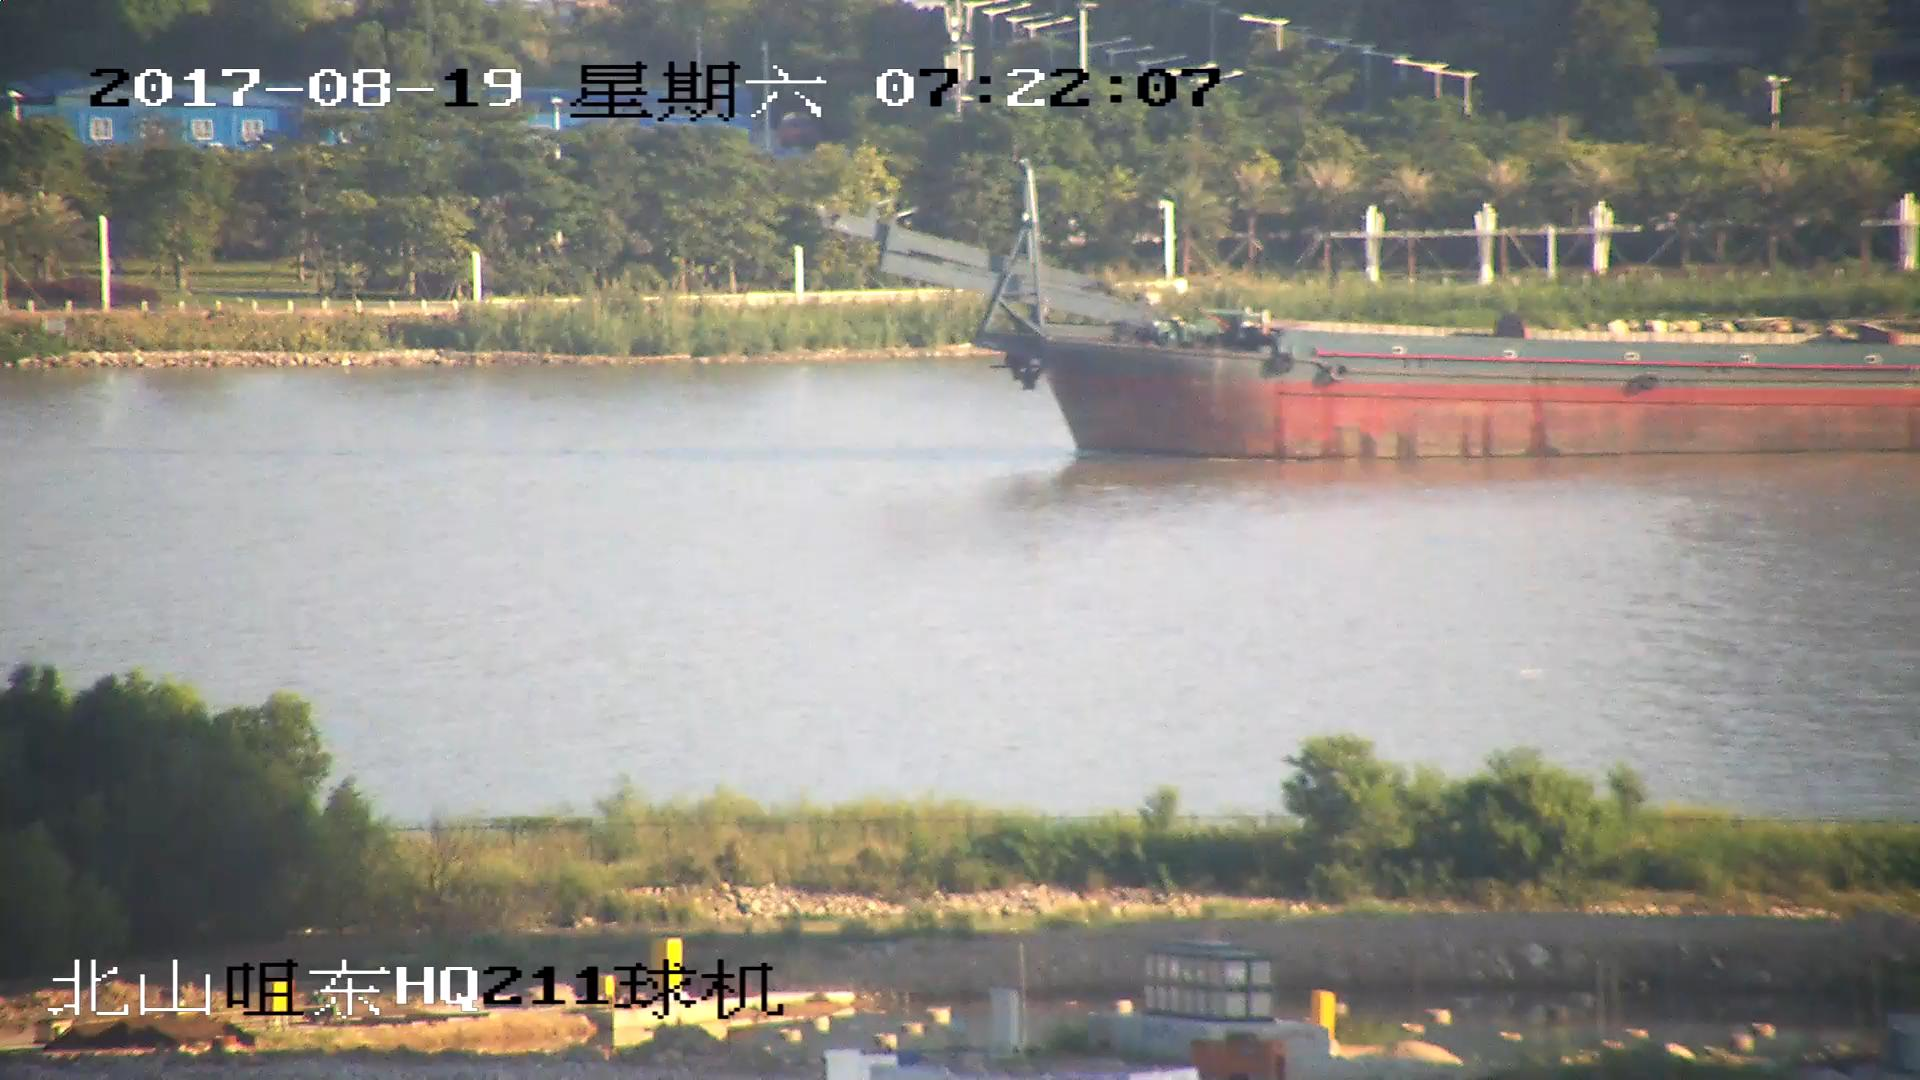bulk cargo carrier: (828, 174, 1920, 461)
